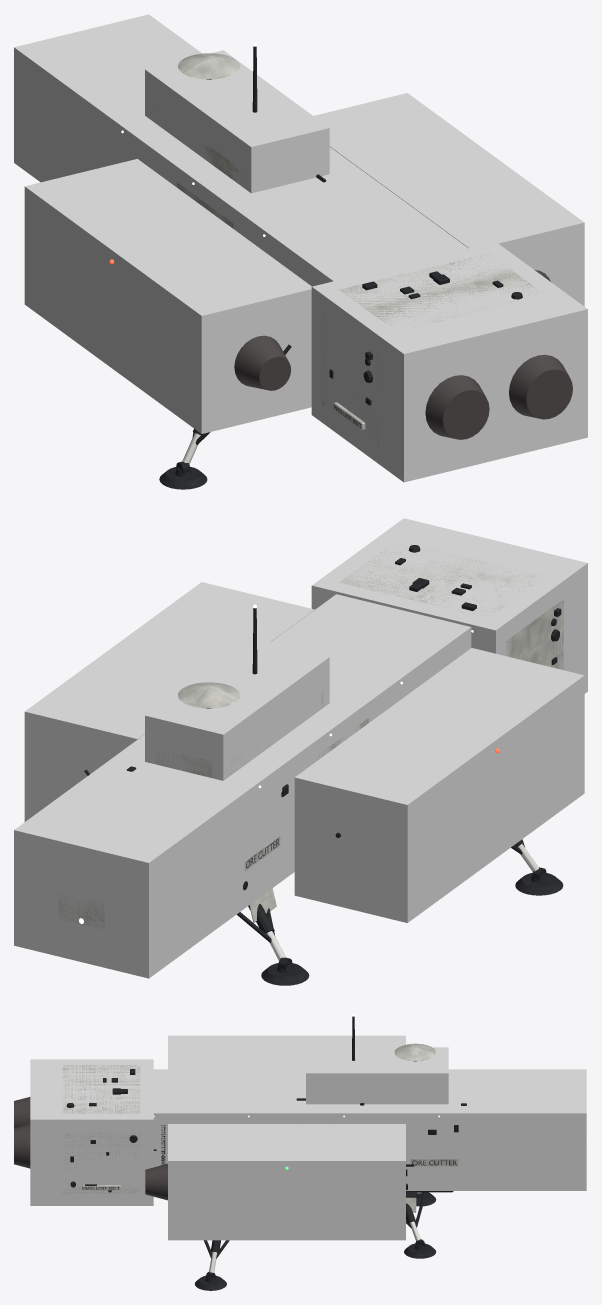
File: miner.glb
3 renders of one model, top to bottom at view 1: azimuth 30°, elevation 25°; view 2: azimuth 150°, elevation 25°; view 3: azimuth 270°, elevation 25°, orthographic. The views are drawn at different scales.
Visible parts, largest first — view 1: COL_pod_l, COL_engine, COL_body, COL_pod_r, hull, COL_dorsal; view 2: COL_body, COL_pod_l, COL_pod_r, COL_engine, COL_dorsal, hull; view 3: COL_body, COL_pod_r, COL_engine, hull, COL_dorsal, COL_pod_l.
Part boxes in pixels (<box>): COL_pod_l: <box>24,159,311,433</box>; COL_engine: <box>311,242,587,482</box>; COL_body: <box>14,14,468,286</box>; COL_pod_r: <box>314,93,584,306</box>; hull: <box>109,43,572,489</box>; COL_dorsal: <box>145,50,329,193</box>; COL_body: <box>14,594,471,978</box>; COL_pod_l: <box>294,648,584,922</box>; COL_pod_r: <box>24,582,314,821</box>; COL_engine: <box>311,518,587,693</box>; COL_dorsal: <box>145,638,329,780</box>; hull: <box>58,542,563,985</box>; COL_body: <box>153,1069,586,1190</box>; COL_pod_r: <box>168,1124,405,1240</box>; COL_engine: <box>30,1059,153,1205</box>; hull: <box>14,1014,587,1290</box>; COL_dorsal: <box>306,1047,448,1104</box>; COL_pod_l: <box>168,1035,405,1069</box>.
Size of the model in its own units: 32.4 by 24.55 by 60.35.
Materials: 10 (3 with a texture image).
